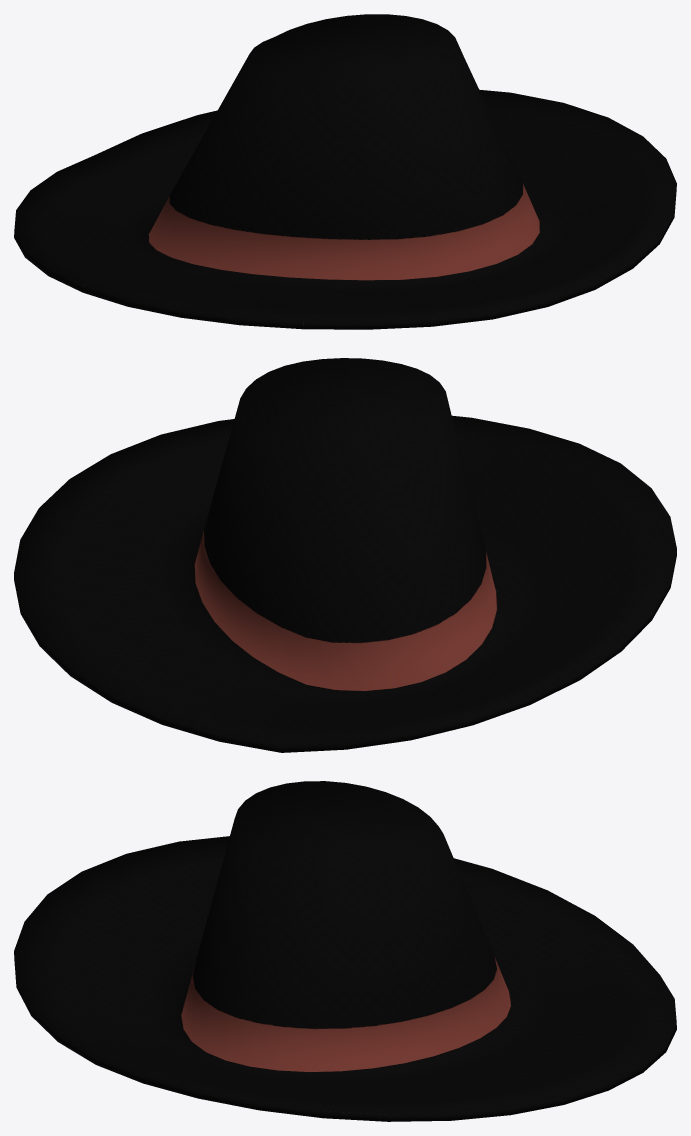
File: hat.fbx
The picture shows the model from 3 angles, top to bottom: view 1: azimuth 30°, elevation 25°; view 2: azimuth 150°, elevation 25°; view 3: azimuth 270°, elevation 25°; orthographic projection.
Parts seen in each view (by area): view 1: Cylinder.003; view 2: Cylinder.003; view 3: Cylinder.003.
Boxes of the visible parts, x1=… form: Cylinder.003: x1=14, y1=14, x2=676, y2=329; Cylinder.003: x1=14, y1=358, x2=676, y2=752; Cylinder.003: x1=14, y1=781, x2=676, y2=1121.
Bounding box in the file's own units: 0.6265 × 0.628 × 0.2275.
2 materials, 1 textured.
